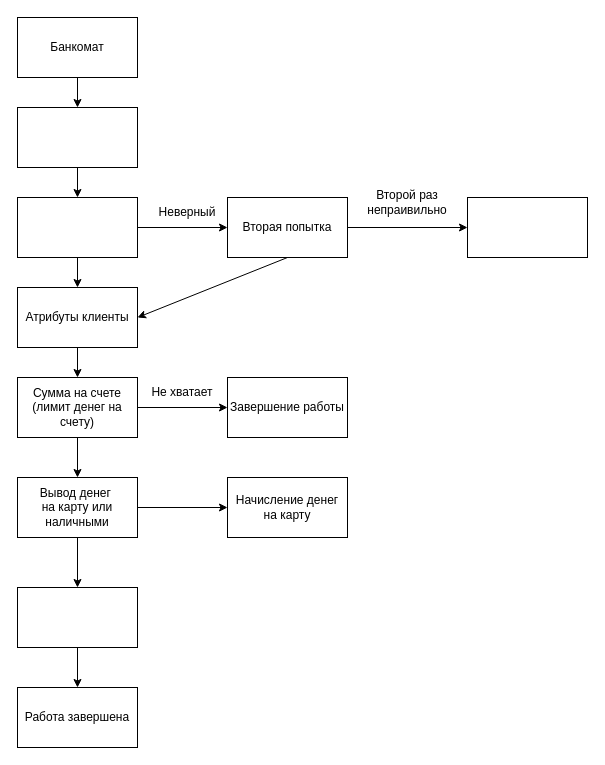
Some shapes in this 605 by 765 pixel diagram are drawn without their labels. Each missing label, with the centre of its shape:
Блокировка карты: point 527,227
Введите пин код (пароль): point 77,227
Вставьте карту: point 77,137
Вывод денег наличными: point 77,617
